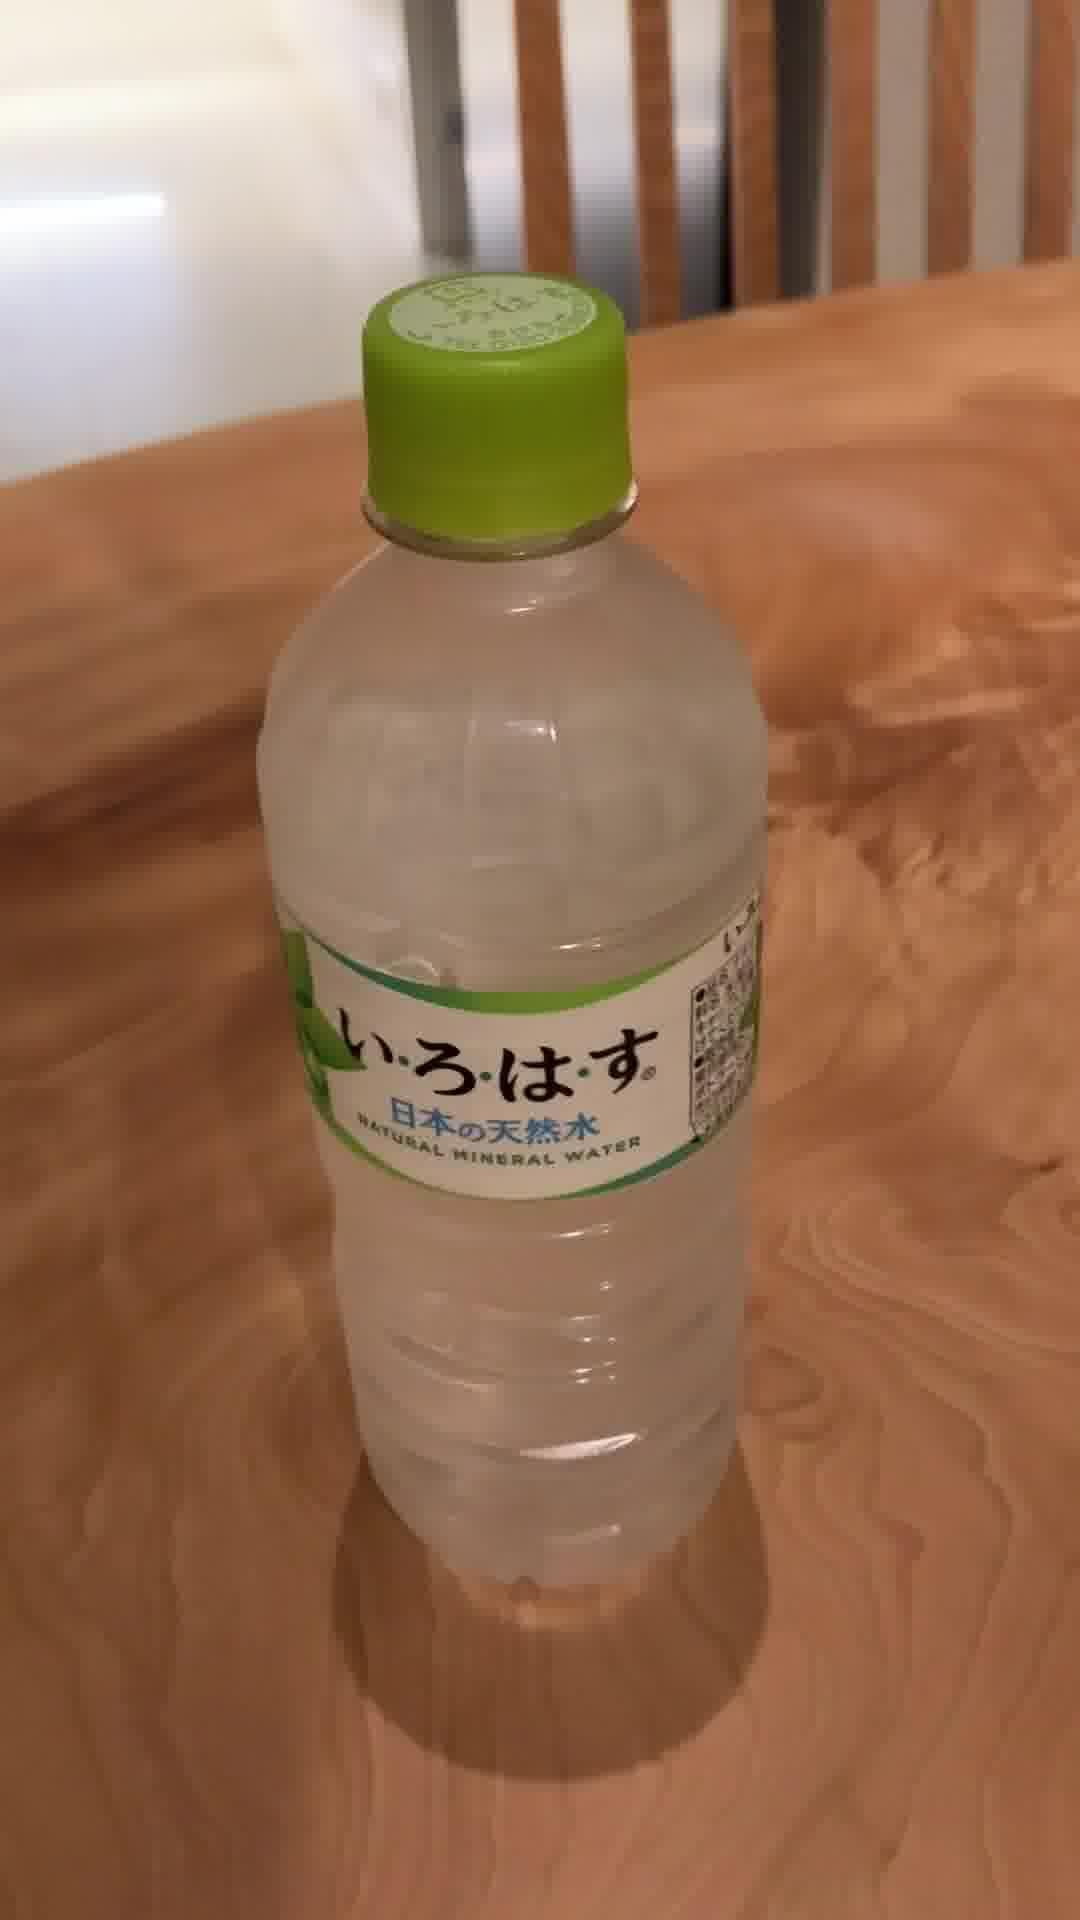BIODEGRADABLE: (248, 258, 780, 1606)
